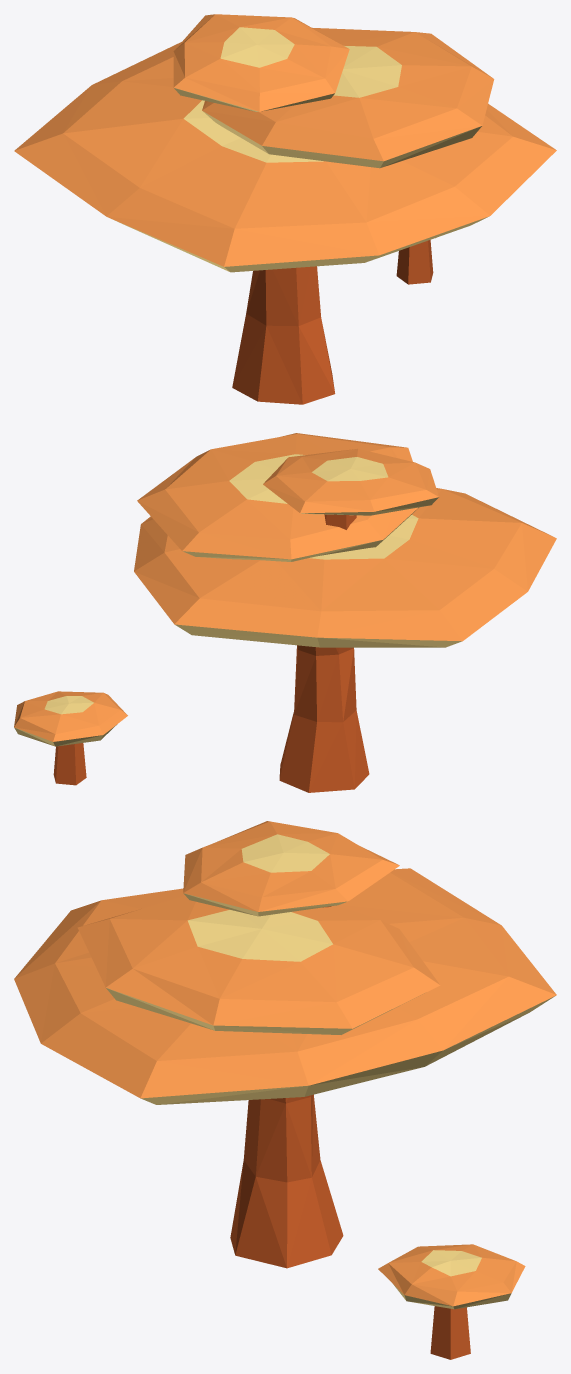
File: coral_mushroom_orange.fbx
3 views of the same model, one above another, from view 1: azimuth 30°, elevation 25°; view 2: azimuth 150°, elevation 25°; view 3: azimuth 270°, elevation 25° (orthographic). The views are drawn at different scales.
Parts seen in each view (by area): view 1: coral_mushroom_orange; view 2: coral_mushroom_orange; view 3: coral_mushroom_orange.
Part boxes in pixels (box(x1,y1,x2,y2)): coral_mushroom_orange: box(14, 14, 556, 404); coral_mushroom_orange: box(14, 433, 556, 792); coral_mushroom_orange: box(14, 821, 556, 1359).
Bounding box in the file's own units: 1957 × 1366 × 1788.
Materials: 1 (1 with a texture image).
